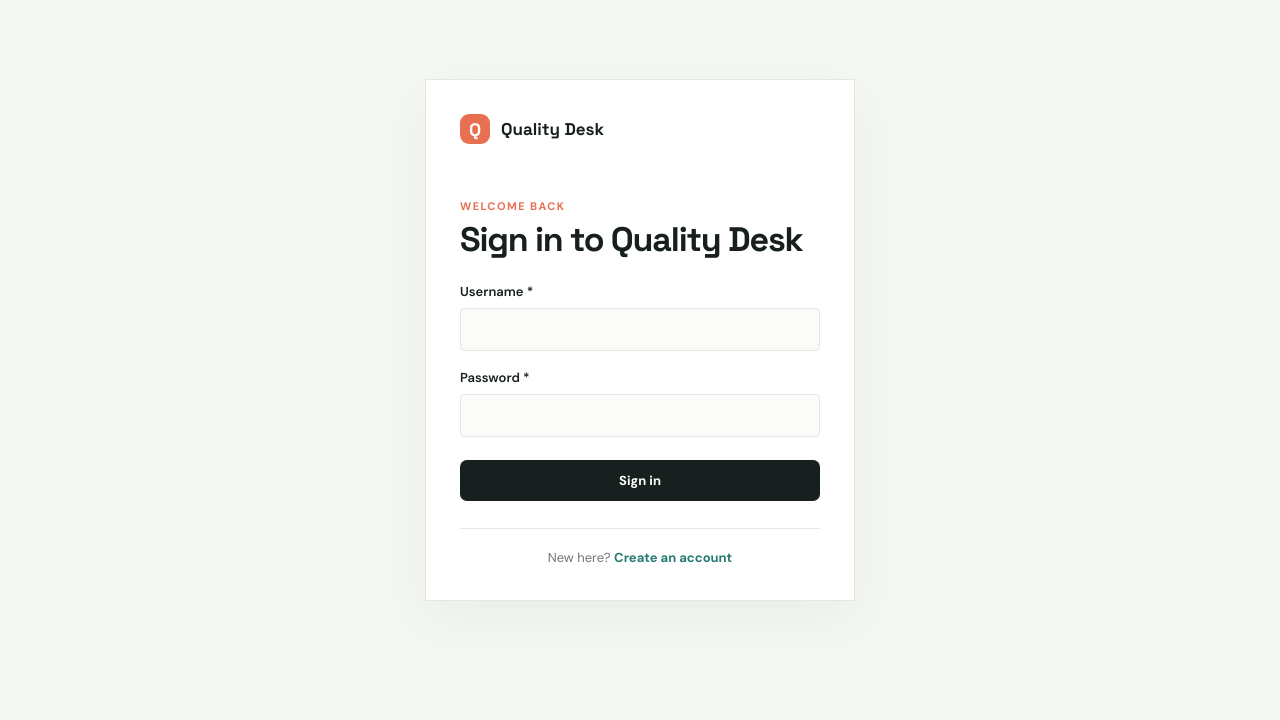
Test case: authentication flow › logs in, stores the session, and shows the dashboard
The image size is (1280, 720).
Type "alice" into the field labelled "Username *" at (640, 330), box [460,308,820,351]
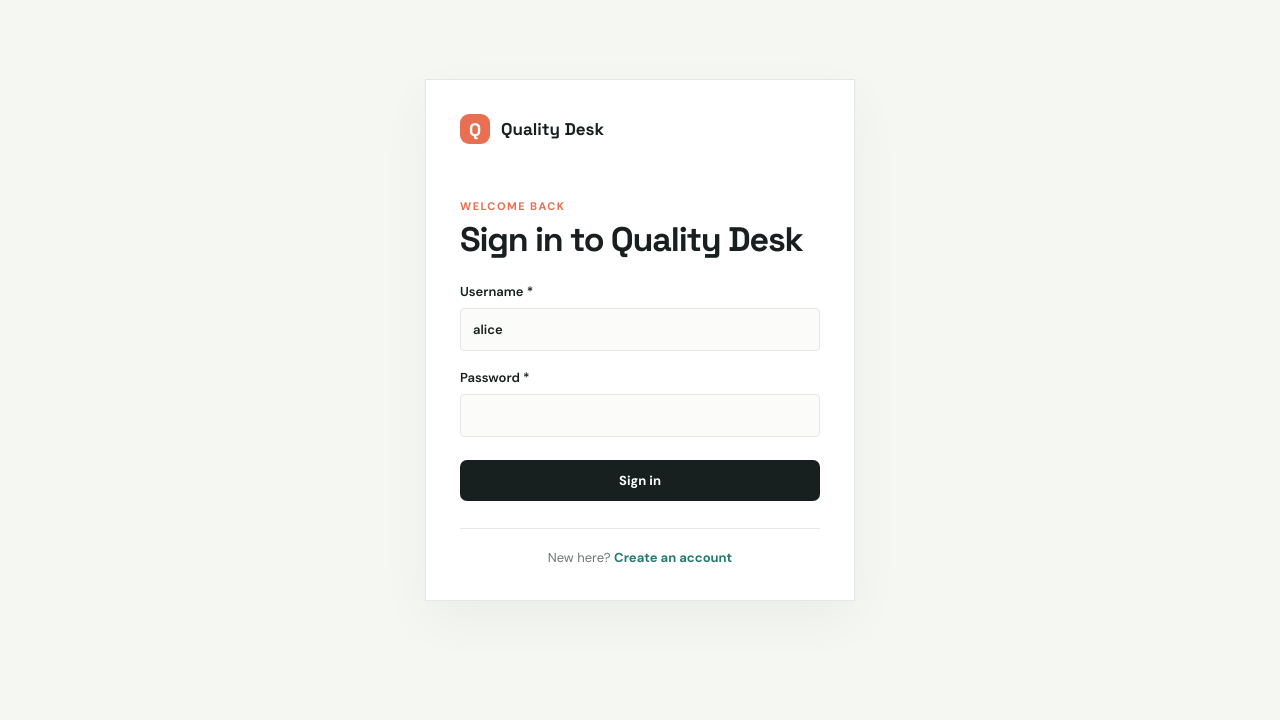
Type "password123" into the password field labelled "Password *" at (640, 416), box [460,394,820,437]
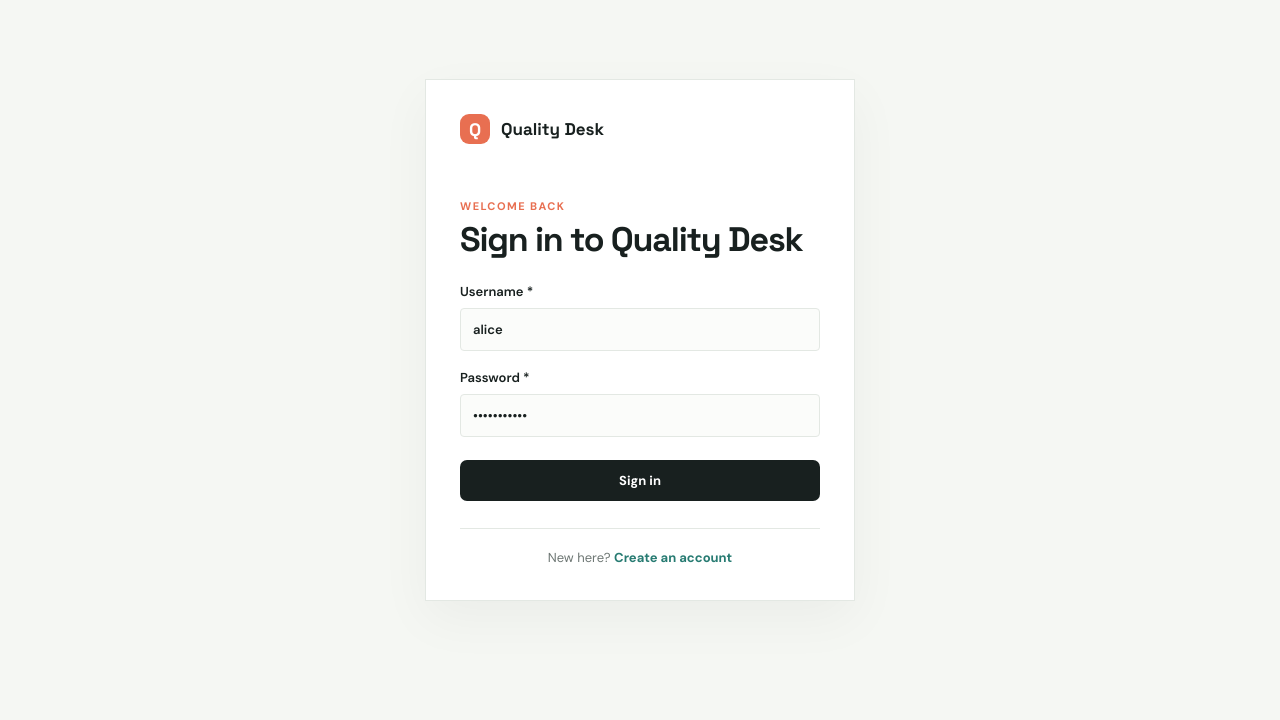
Click the button "Sign in" at (640, 480), box [460,460,820,501]
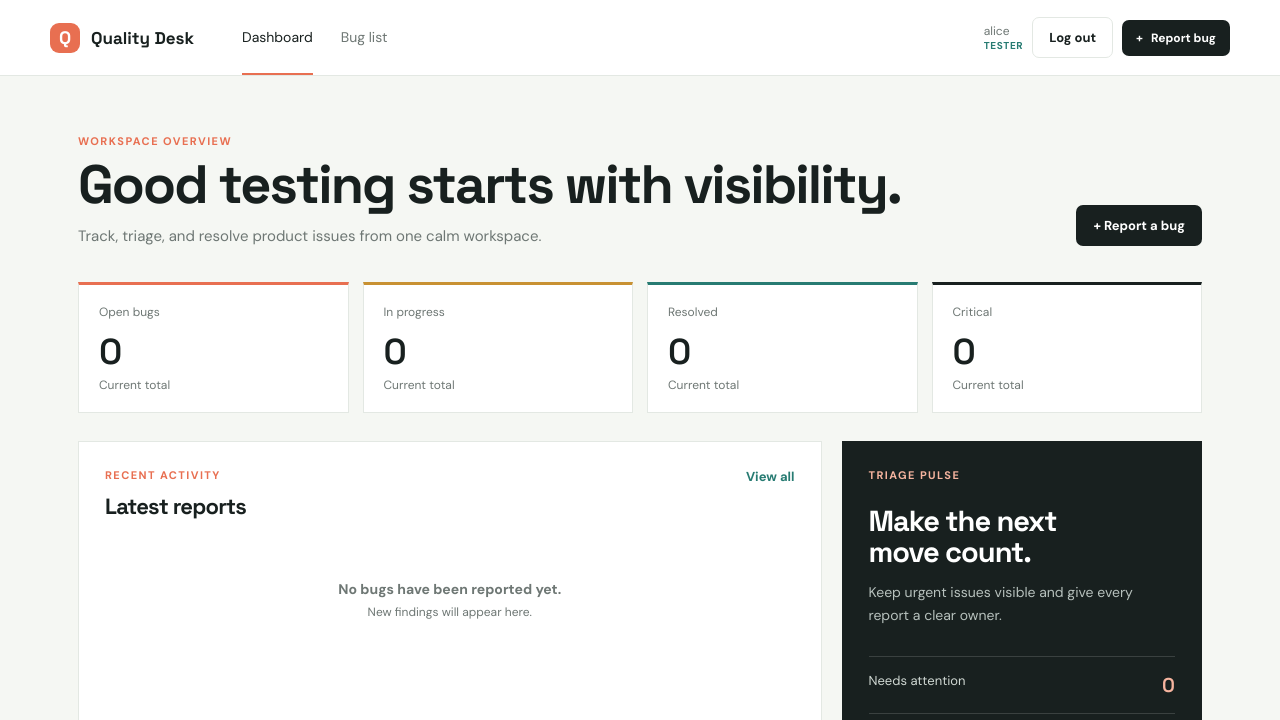
Expected: the heading "Good testing starts with visibility." is shown, [78,158,901,212]
